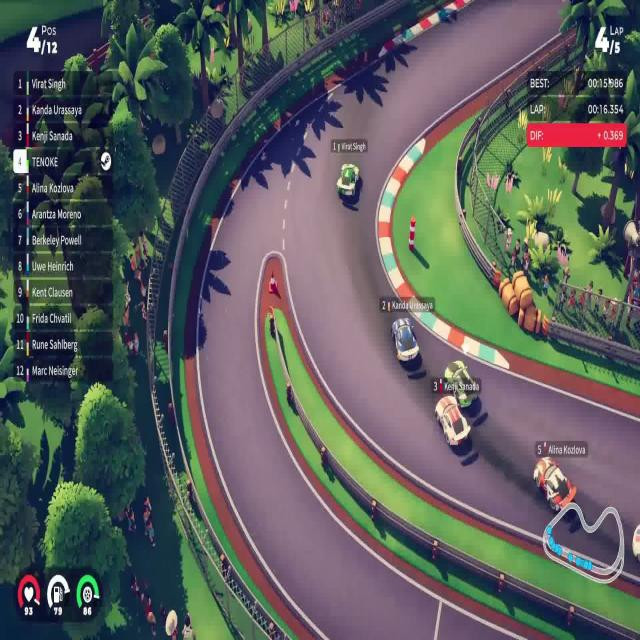car: (532, 455, 577, 514), (434, 393, 471, 448), (442, 358, 478, 408), (390, 316, 420, 365), (336, 162, 360, 201)
